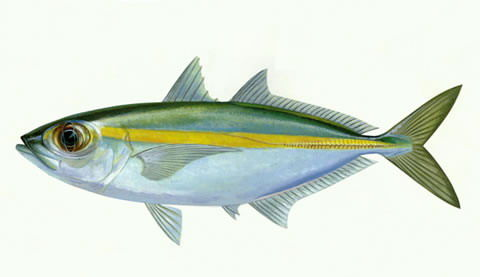fish: (15, 55, 463, 246)
